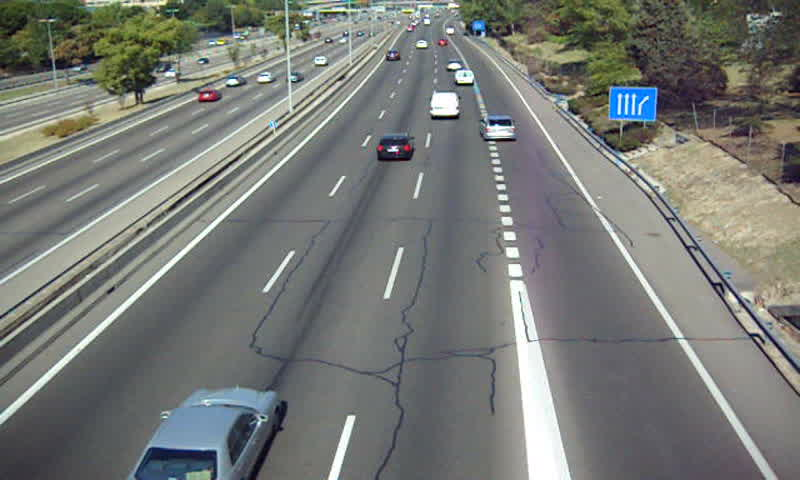car: (127, 386, 283, 480), (377, 131, 415, 160), (481, 114, 518, 142), (447, 59, 463, 73), (386, 49, 401, 62)
van: (429, 92, 460, 120), (455, 69, 476, 87)
